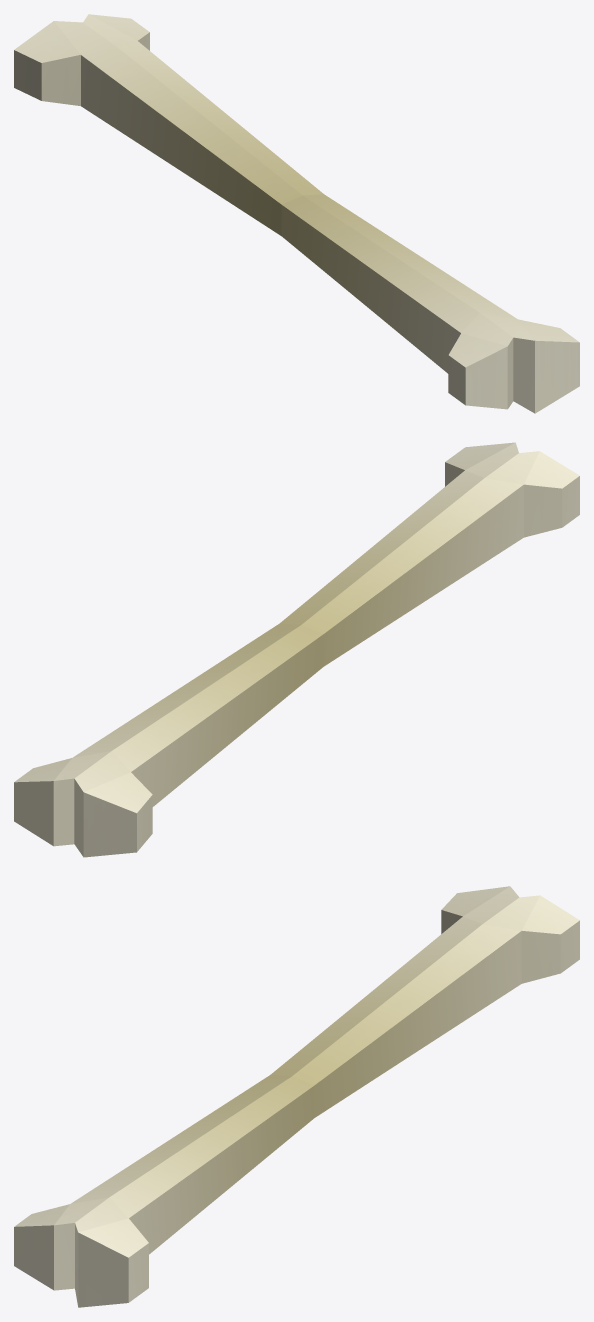
File: Bone.fbx
3 views of the same model, one above another, from view 1: azimuth 30°, elevation 25°; view 2: azimuth 150°, elevation 25°; view 3: azimuth 330°, elevation 25° (orthographic). The views are drawn at different scales.
Parts seen in each view (by area): view 1: Bone; view 2: Bone; view 3: Bone.
Part boxes in pixels (bbox=[...]): Bone: bbox=[14, 14, 579, 413]; Bone: bbox=[14, 442, 579, 857]; Bone: bbox=[14, 886, 579, 1307].
Size of the model in its own units: 10.27 by 5.77 by 64.53.
